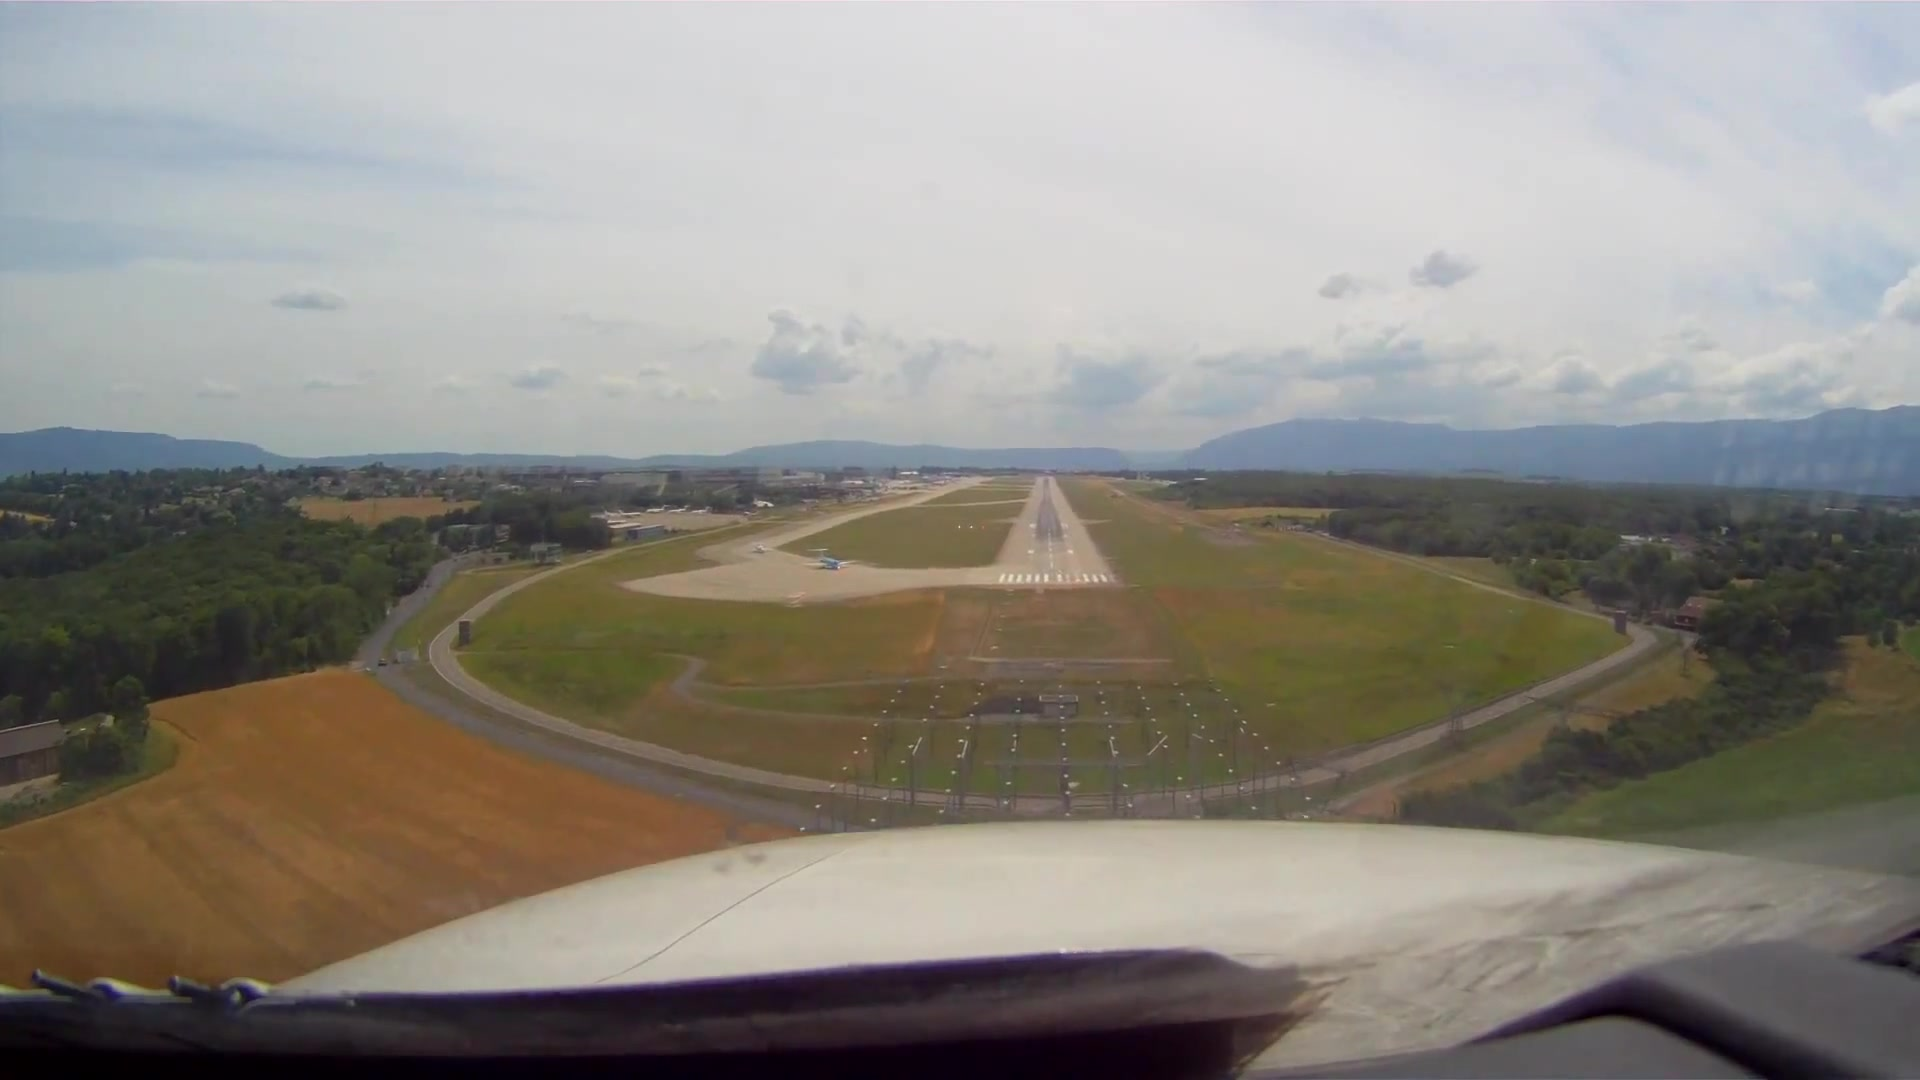entrance: (997, 571, 1110, 584)
runway: (992, 473, 1121, 589)
